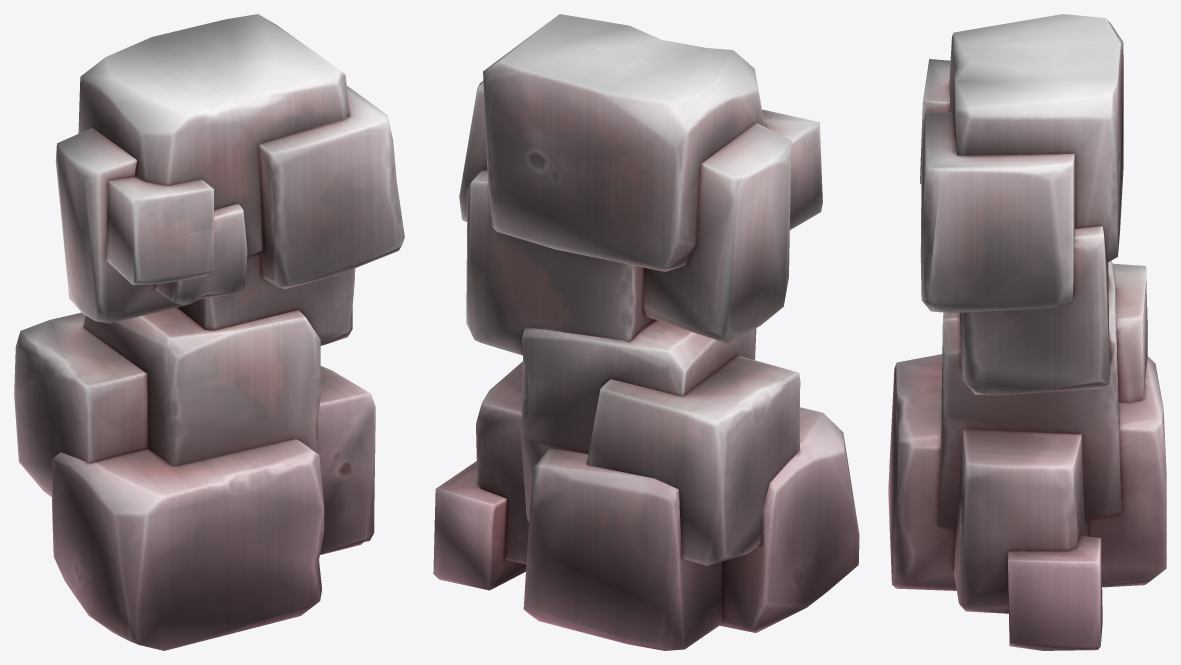
Rendered from SM_Gem_Halite_005.fbx.
The picture shows the model from 3 angles, left to right: view 1: azimuth 30°, elevation 25°; view 2: azimuth 150°, elevation 25°; view 3: azimuth 270°, elevation 25°; orthographic projection. The views are drawn at different scales.
Parts seen in each view (by area): view 1: SM_Gem_Halite_005; view 2: SM_Gem_Halite_005; view 3: SM_Gem_Halite_005.
Part boxes in pixels (x1,y1,x2,y2): SM_Gem_Halite_005: (14,14,404,650); SM_Gem_Halite_005: (433,14,859,650); SM_Gem_Halite_005: (888,14,1166,650).
Size of the model in its own units: 63.63 by 102 by 48.92.
